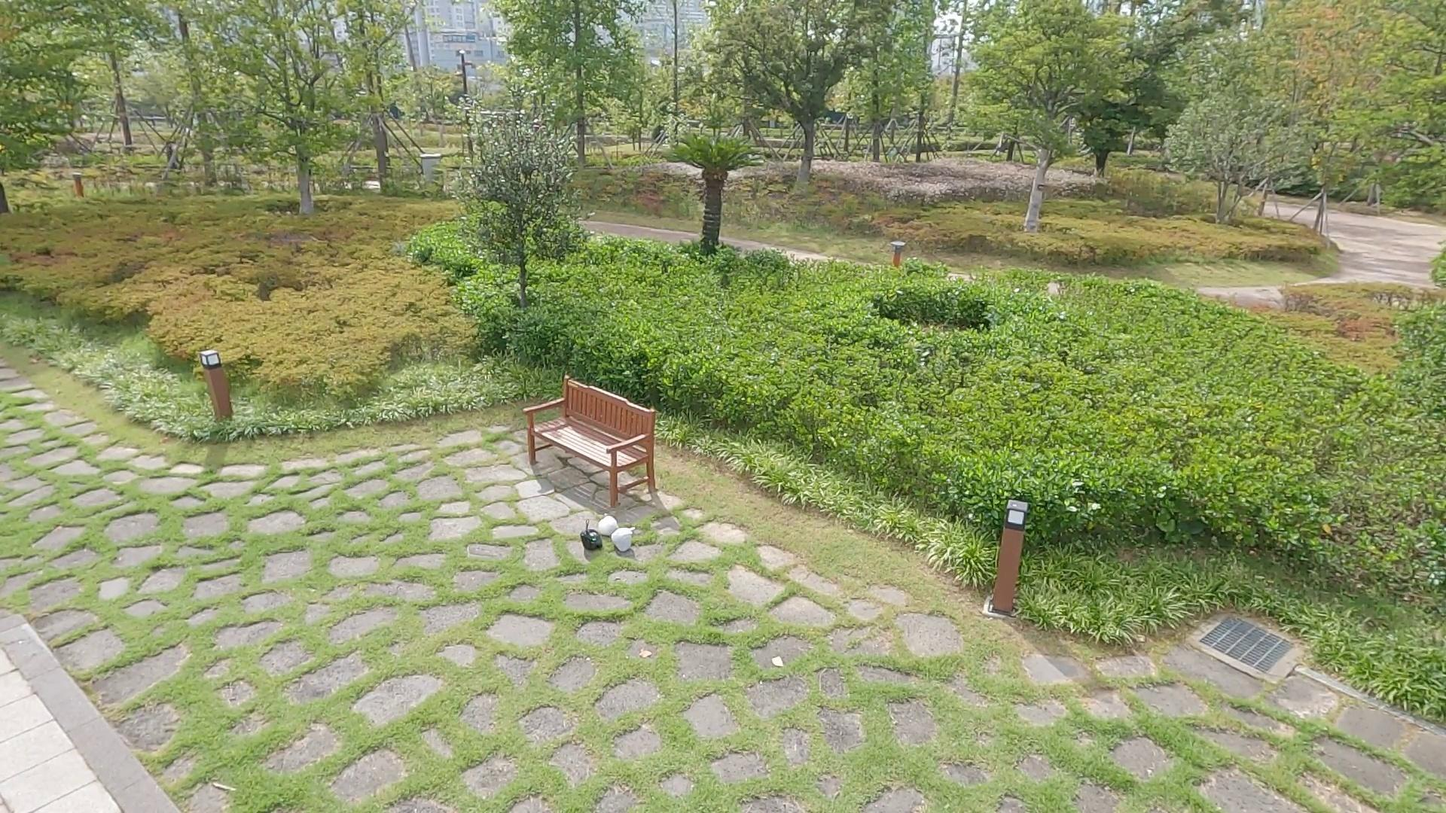trash: (575, 520, 608, 555), (608, 521, 639, 555), (596, 508, 623, 541)
